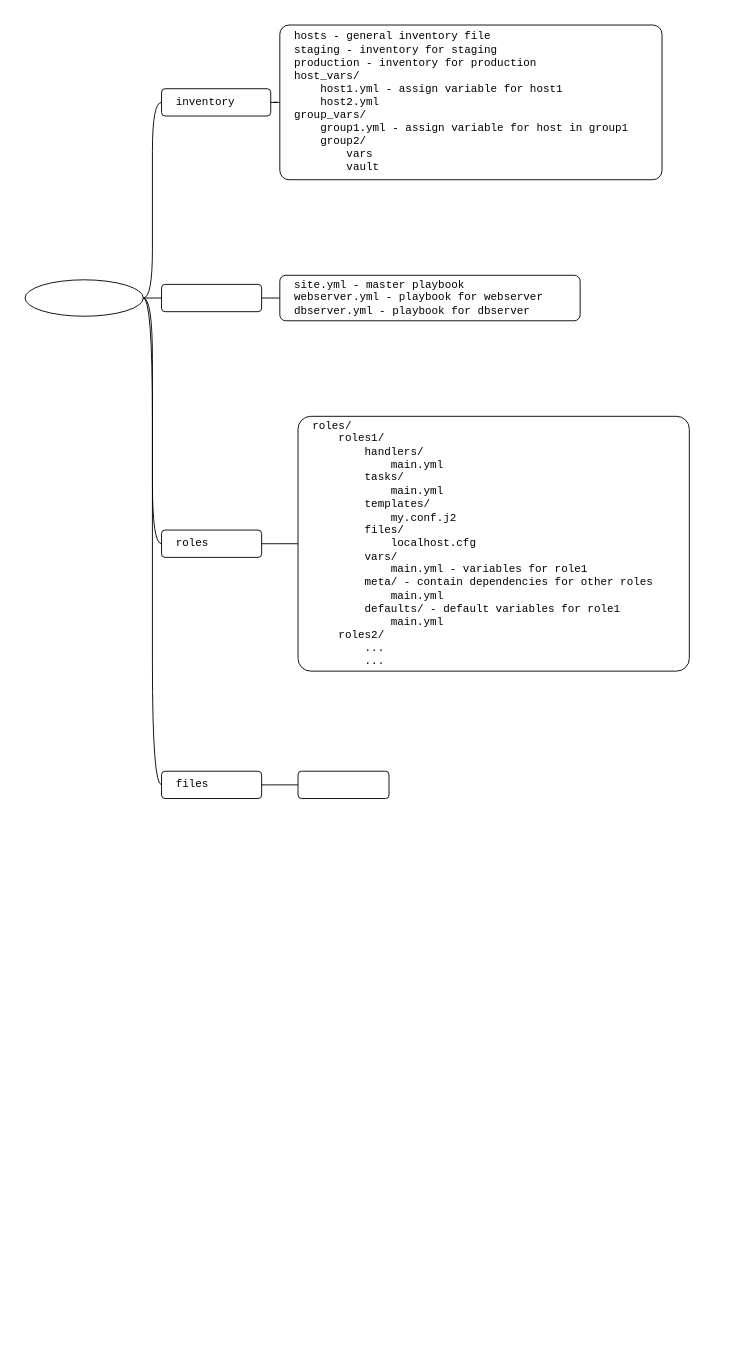
Image size: 750x1350. Some labels were removed from this diagram. The shapes that lost their labels are listed below. From the top down, each one's centre as x and y in pixels, then its label:
point 83,297: playbook-dir/
point 211,297: playbook
point 343,784: files/
